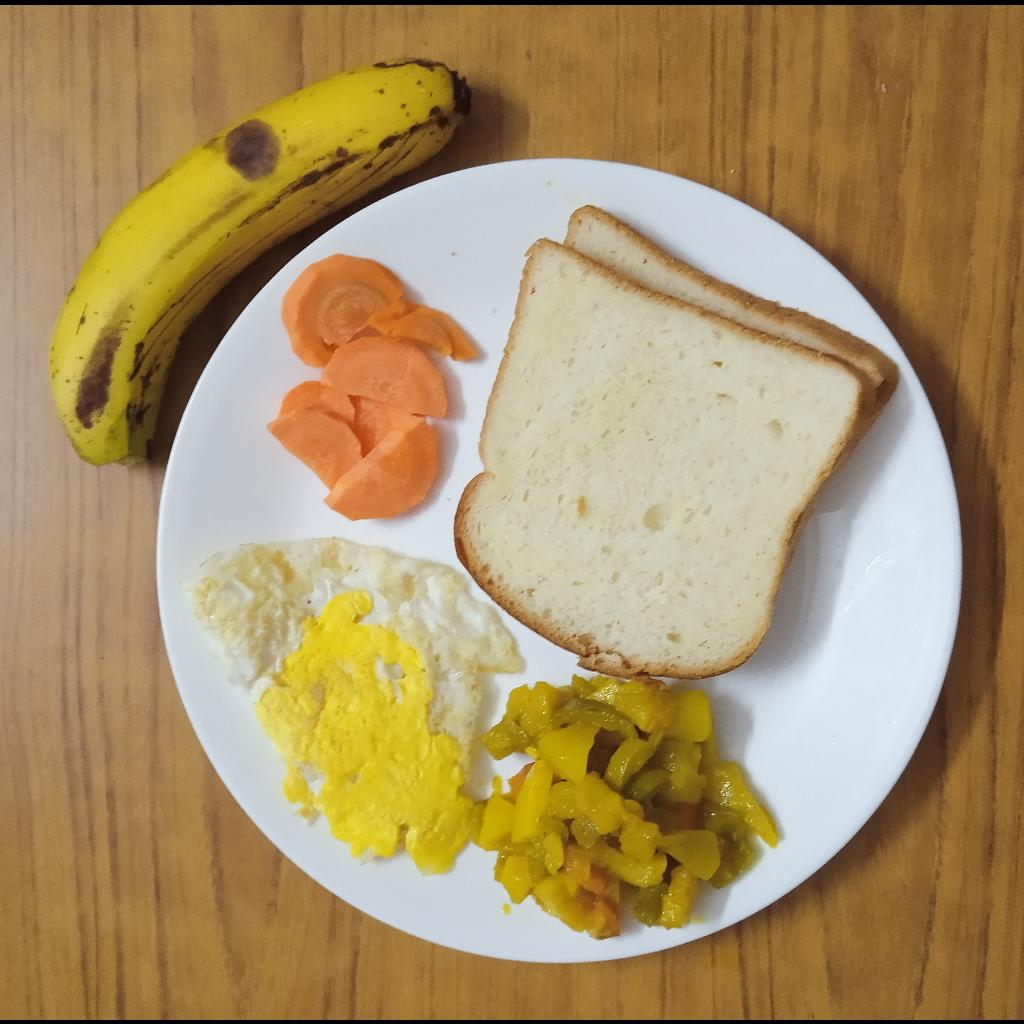banana: (53, 54, 466, 465)
bread: (455, 201, 899, 679)
carrot: (267, 252, 480, 522)
egg-poached: (176, 538, 529, 877)
vegetable: (472, 672, 780, 941)
